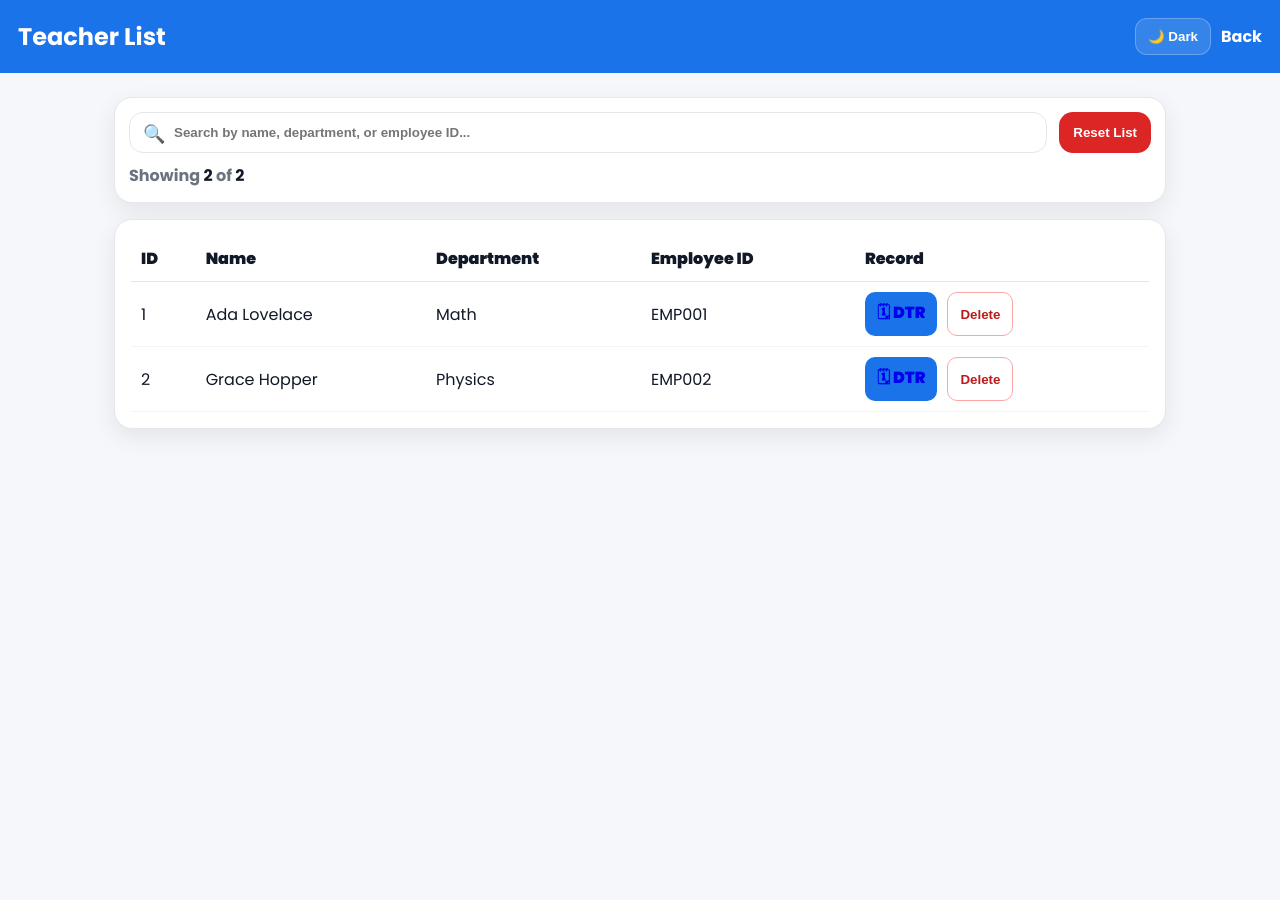
deletes a teacher after confirmation
Expected: the text "Ada Lovelace" is shown, [196,282,426,346]
Click the button "Delete" in the row of "Ada Lovelace": point(980, 314) [947,292,1013,336]
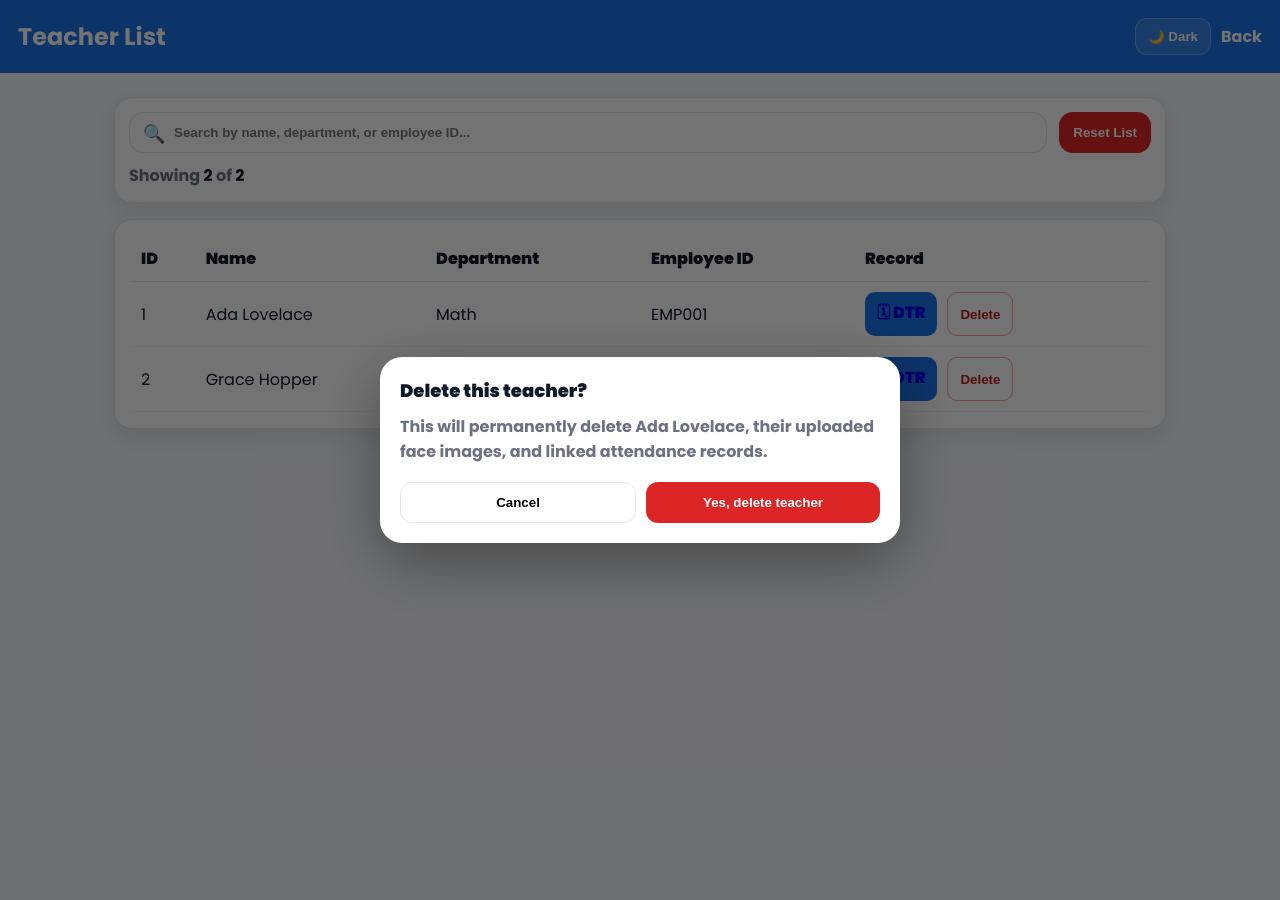
Expected: the text "Delete this teacher?" is shown, [400,378,587,403]
Click the button "Yes, delete teacher": point(763, 502) [646,482,880,523]
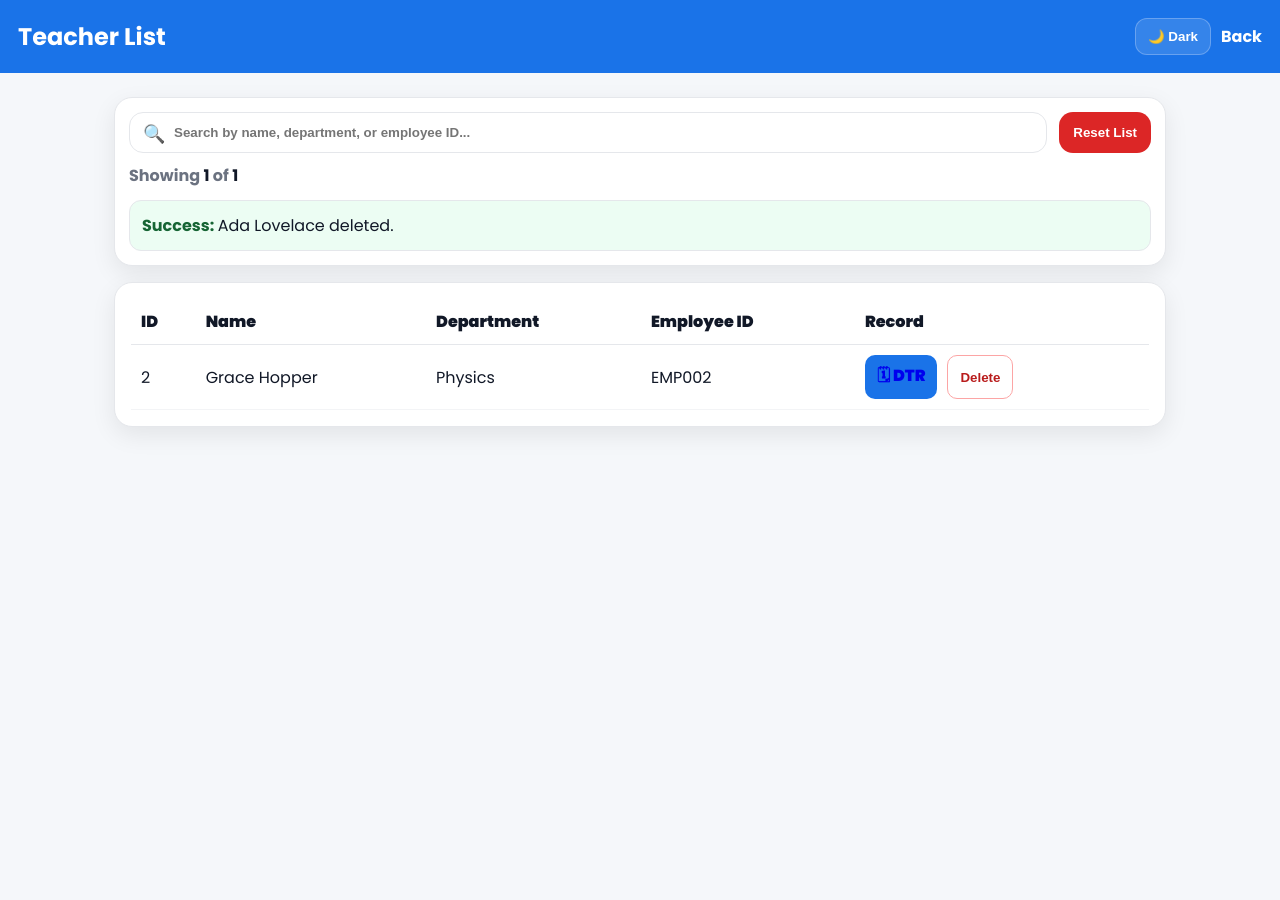
Expected: the text "Ada Lovelace deleted." is shown, [218,214,394,237]
